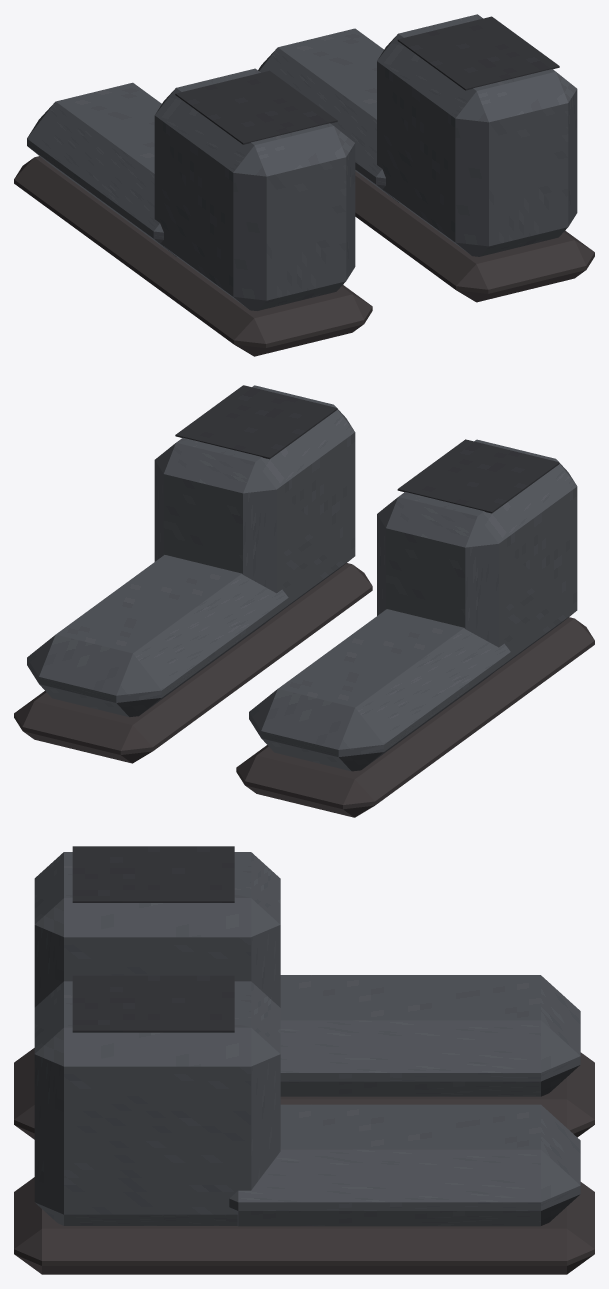
Rendered from boots_western.glb.
3 renders of one model, top to bottom at view 1: azimuth 30°, elevation 25°; view 2: azimuth 150°, elevation 25°; view 3: azimuth 270°, elevation 25°, orthographic. The views are drawn at different scales.
Visible parts, largest first — view 1: block_shaft (×2), block_shaped sole (×2), block_vamp and toe (×2), block_opening (×2); view 2: block_shaft (×2), block_vamp and toe (×2), block_shaped sole (×2), block_opening (×2); view 3: block_vamp and toe (×2), block_shaft (×2), block_shaped sole (×2), block_opening (×2).
Part boxes in pixels (<box>): block_shaft (×2): <box>154,14,577,310</box>; block_shaped sole (×2): <box>14,156,594,356</box>; block_vamp and toe (×2): <box>27,28,398,256</box>; block_opening (×2): <box>175,16,559,144</box>; block_shaft (×2): <box>154,385,577,670</box>; block_vamp and toe (×2): <box>27,555,510,771</box>; block_shaped sole (×2): <box>14,563,594,817</box>; block_opening (×2): <box>175,385,559,513</box>; block_vamp and toe (×2): <box>229,975,580,1226</box>; block_shaft (×2): <box>34,852,280,1225</box>; block_shaped sole (×2): <box>14,1048,594,1274</box>; block_opening (×2): <box>72,846,234,1032</box>.
Bounding box in the file's own units: 0.2446 × 0.1317 × 0.2856.
Materials: 1 (1 with a texture image).
